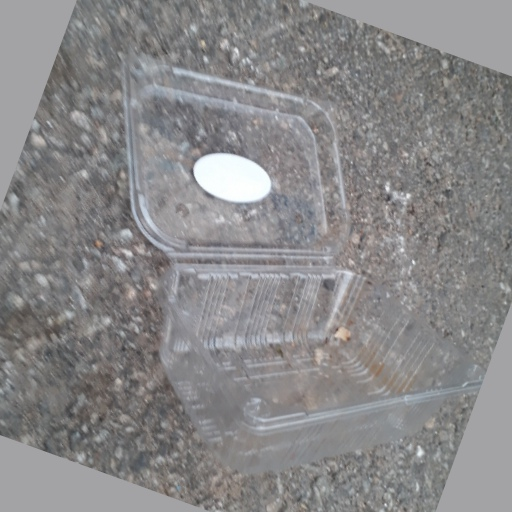Plastic_4: (122, 56, 483, 463)
